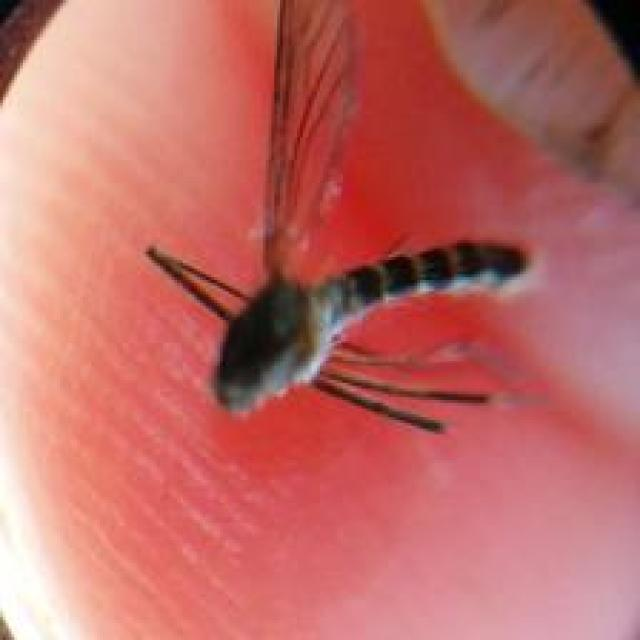Culex: (142, 0, 544, 437)
